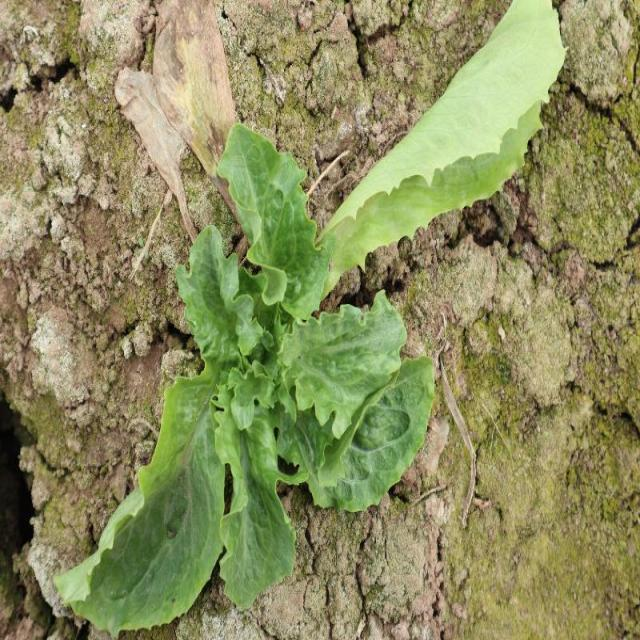crop: (58, 121, 436, 630)
